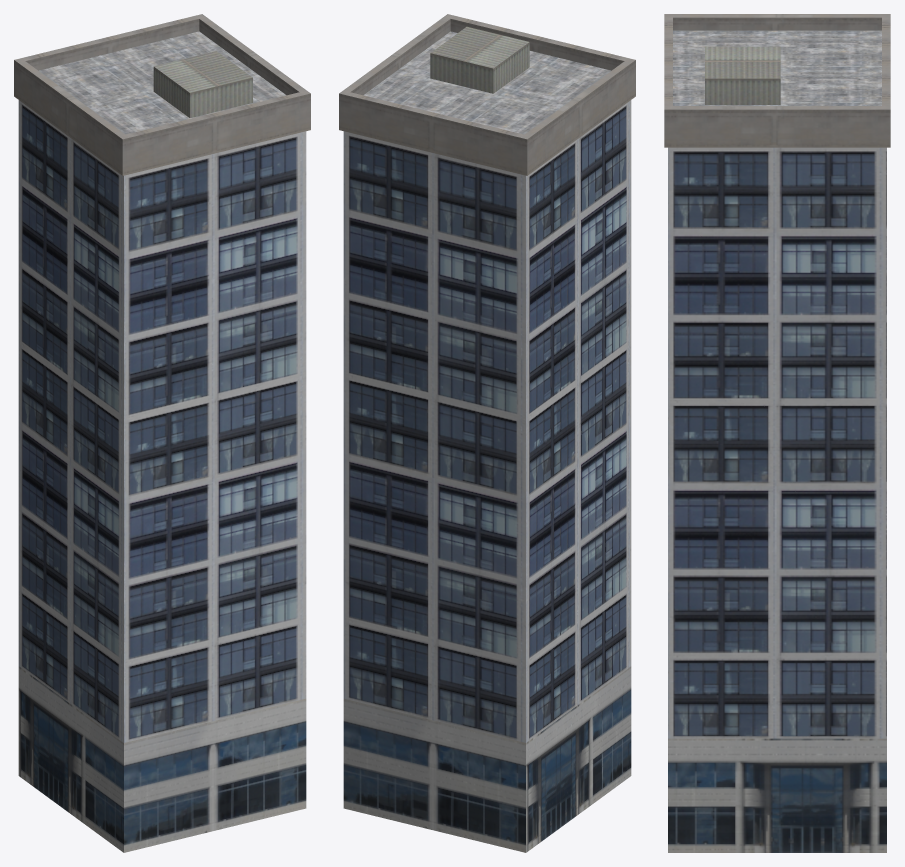
Rendered from building_19.obj.
3 views of the same model, side by side, from view 1: azimuth 30°, elevation 25°; view 2: azimuth 150°, elevation 25°; view 3: azimuth 270°, elevation 25° (orthographic). The views are drawn at different scales.
Visible parts, largest first — view 1: building_19; view 2: building_19; view 3: building_19.
Part boxes in pixels (left/top/right/bottom): building_19: left=14, top=14, right=310, bottom=852; building_19: left=339, top=14, right=635, bottom=852; building_19: left=664, top=14, right=890, bottom=852.
Size of the model in its own units: 52.9 by 195 by 52.88.
1 material, 1 textured.
